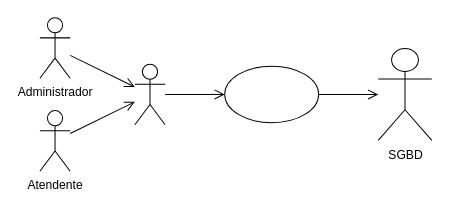
The diagram is 449 pixels wide and 210 high, and some of its shapes have lost their labels. The box of each missing label's shape, as (x1, y1, x2, y2) in pixels:
Login: (224, 65, 319, 123)
Usuário: (134, 63, 165, 125)
